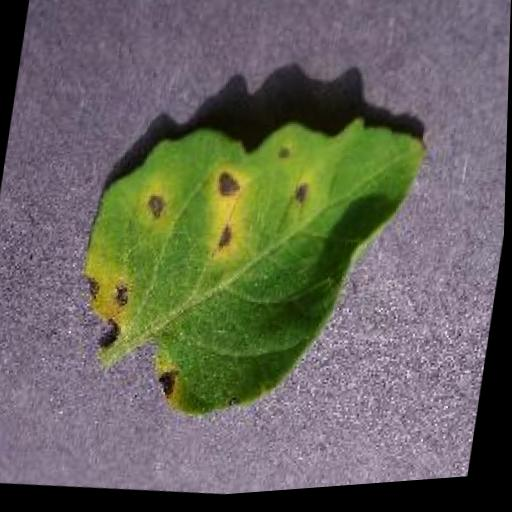Septoria: (58, 92, 436, 449)
